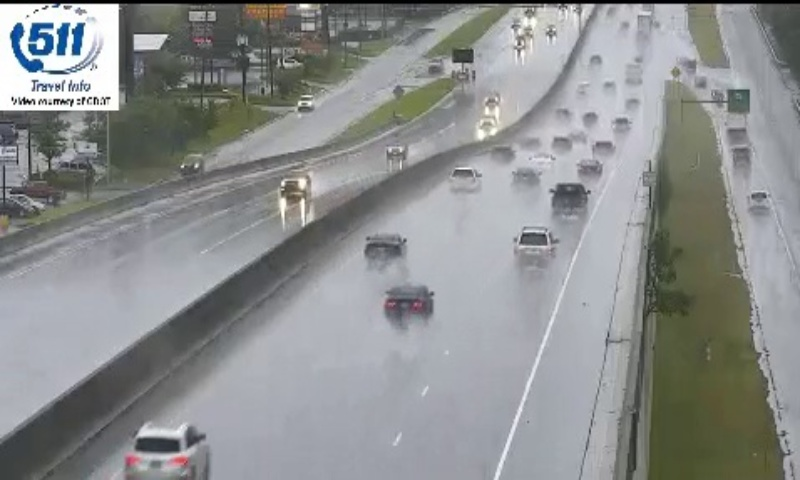car: (125, 422, 210, 480), (383, 284, 433, 322), (515, 226, 555, 262), (365, 233, 404, 265), (551, 182, 588, 215)
